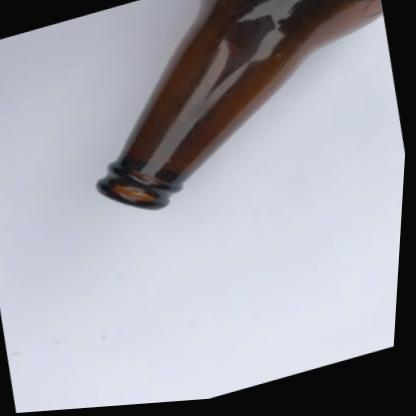Glass: (98, 0, 383, 210)
